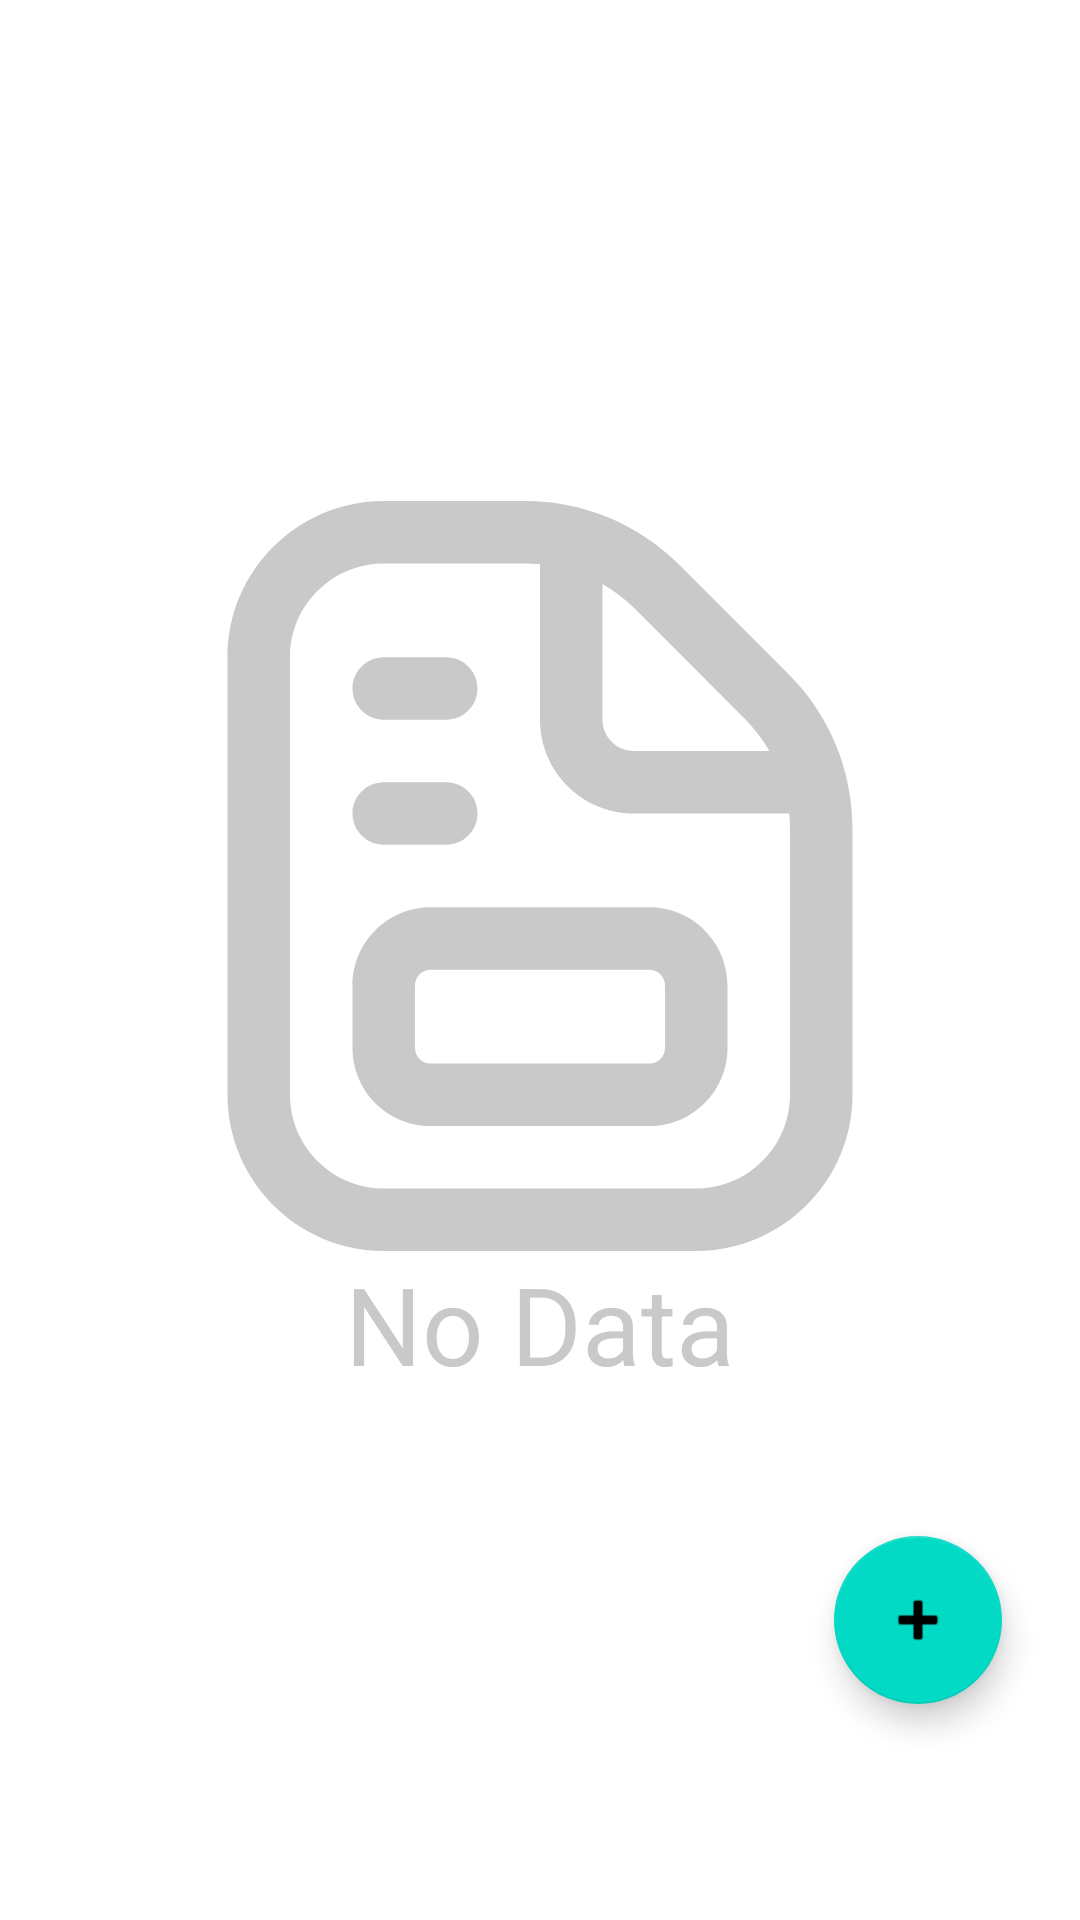

Icon click points for this 1080×1920 phone screenshot, format [x,y]:
add: [918,1620]
